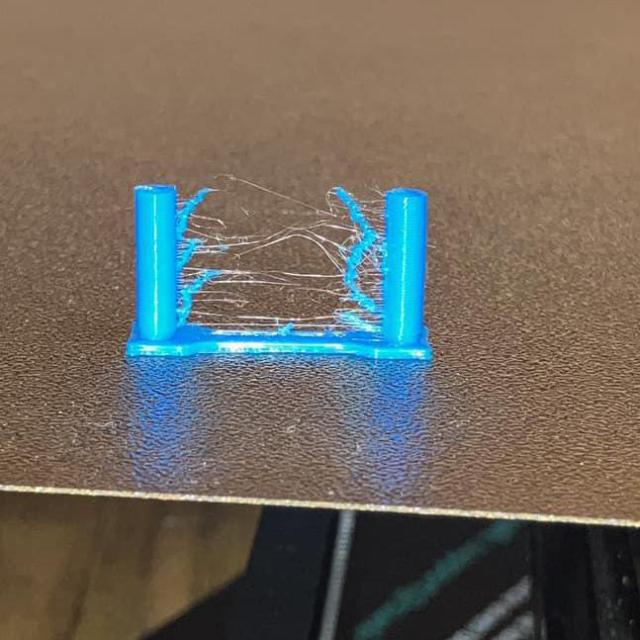stringing: (172, 200, 395, 316)
